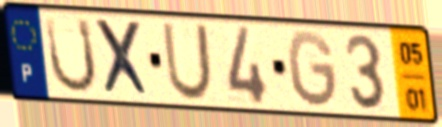3: (344, 32, 391, 114)
4: (223, 24, 270, 108)
G: (284, 28, 341, 112)
U: (42, 13, 100, 96), (159, 21, 215, 104)
X: (90, 17, 155, 101)
